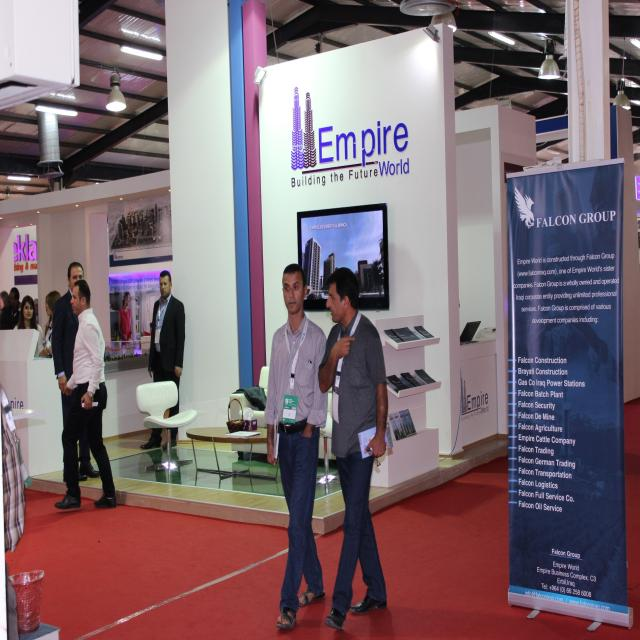body: (316, 264, 394, 633), (262, 259, 330, 632), (53, 278, 118, 510), (50, 260, 101, 483), (0, 378, 43, 640), (138, 269, 187, 450), (13, 294, 45, 360), (42, 288, 62, 358), (118, 291, 133, 342), (0, 286, 14, 330), (8, 287, 22, 330), (140, 318, 154, 342), (32, 294, 41, 326)
